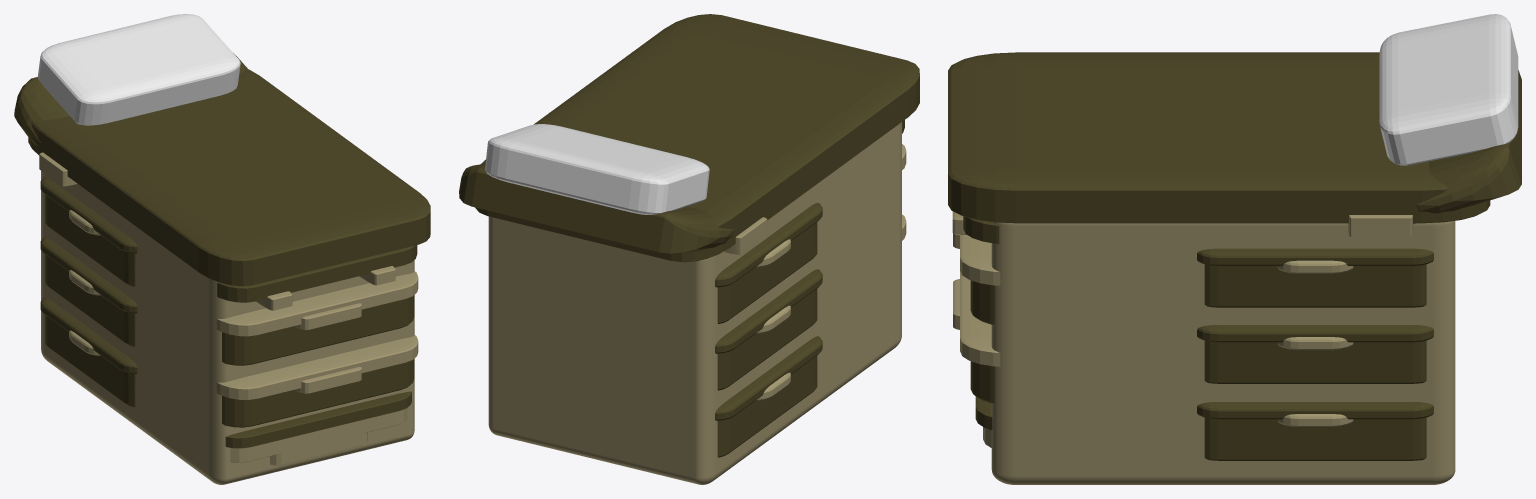
Rendered from bedsmallerER.fbx.
3 views of the same model, side by side, from view 1: azimuth 30°, elevation 25°; view 2: azimuth 150°, elevation 25°; view 3: azimuth 270°, elevation 25° (orthographic). The views are drawn at different scales.
Parts seen in each view (by area): view 1: Cube, Cube.001, Cube.002, Cube.004, Cube.005, Cube.020, Cube.019, Cube.021, Cube.009, Cube.006, Cube.003, Cube.012 (+7 smaller); view 2: Cube.001, Cube, Cube.002, Cube.020, Cube.019, Cube.021, Cube.018; view 3: Cube, Cube.001, Cube.002, Cube.017, Cube.016, Cube.015, Cube.009, Cube.006, Cube.018, Cube.004, Cube.005, Cube.003.
Boxes of the visible parts, bbox=[...] form: Cube: bbox=[14, 53, 430, 286]; Cube.001: bbox=[41, 171, 414, 484]; Cube.002: bbox=[37, 14, 240, 125]; Cube.004: bbox=[222, 295, 414, 365]; Cube.005: bbox=[222, 359, 414, 427]; Cube.020: bbox=[40, 297, 137, 407]; Cube.019: bbox=[40, 177, 137, 286]; Cube.021: bbox=[40, 237, 137, 346]; Cube.009: bbox=[216, 334, 418, 399]; Cube.006: bbox=[216, 271, 418, 336]; Cube.003: bbox=[217, 245, 417, 302]; Cube.012: bbox=[225, 391, 411, 448]; Cube.001: bbox=[488, 122, 901, 484]; Cube: bbox=[459, 14, 919, 262]; Cube.002: bbox=[485, 124, 709, 214]; Cube.020: bbox=[715, 336, 822, 457]; Cube.019: bbox=[715, 203, 822, 323]; Cube.021: bbox=[715, 269, 822, 390]; Cube.018: bbox=[724, 217, 767, 254]; Cube: bbox=[948, 52, 1521, 223]; Cube.001: bbox=[991, 221, 1455, 484]; Cube.002: bbox=[1379, 14, 1518, 165]; Cube.017: bbox=[1197, 248, 1433, 307]; Cube.016: bbox=[1197, 402, 1433, 460]; Cube.015: bbox=[1197, 325, 1433, 383]; Cube.009: bbox=[960, 271, 1000, 366]; Cube.006: bbox=[960, 234, 1000, 285]; Cube.018: bbox=[1348, 215, 1413, 237]; Cube.004: bbox=[970, 280, 994, 324]; Cube.005: bbox=[970, 361, 994, 403]; Cube.003: bbox=[963, 216, 999, 243].
Bounding box in the file's own units: 192 × 231 × 326.
